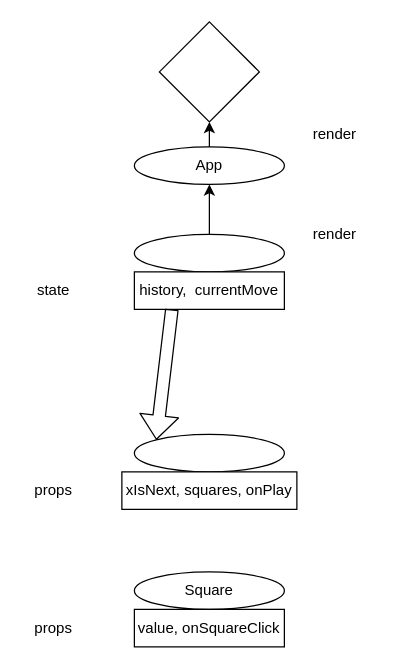
The diagram is 393 pixels wide and 669 high, and some of its shapes have lost their labels. The centre of each missing label's shape, as x and y in pixels:
Board: (208,452)
Game: (208,252)
Index: (208,71)
